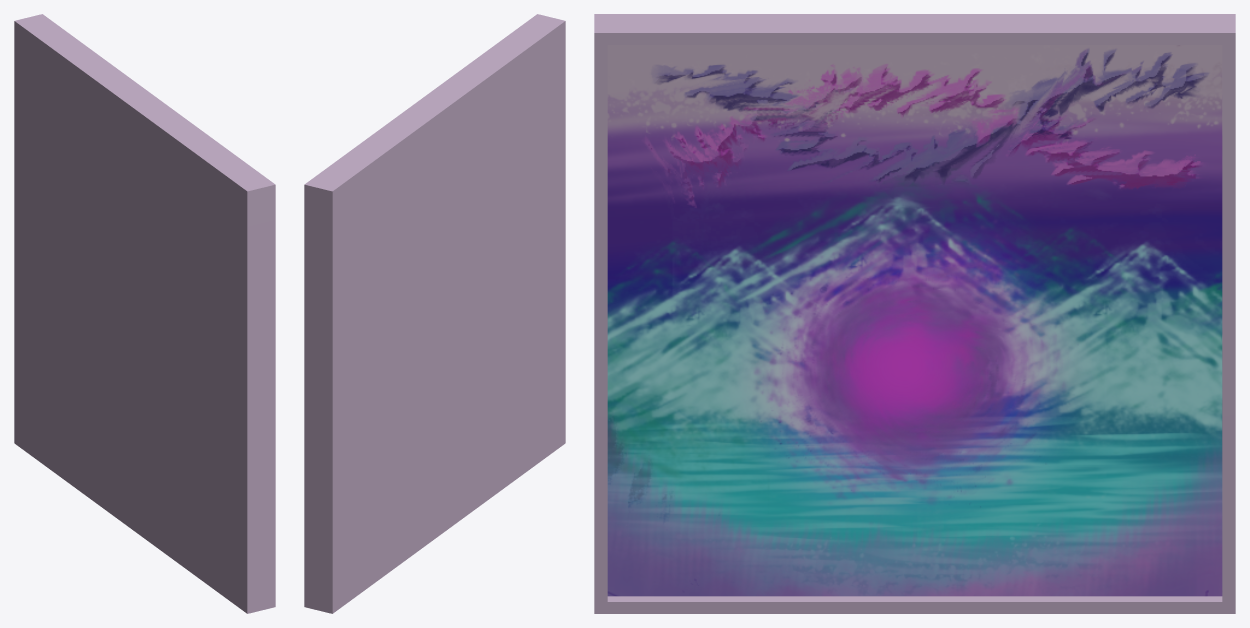
File: Mountains.fbx
3 views of the same model, side by side, from view 1: azimuth 30°, elevation 25°; view 2: azimuth 150°, elevation 25°; view 3: azimuth 270°, elevation 25° (orthographic). The views are drawn at different scales.
Parts seen in each view (by area): view 1: Cube; view 2: Cube; view 3: Cube.
Boxes of the visible parts, x1,y1,x2,y2 form: Cube: [14, 14, 275, 613]; Cube: [304, 14, 565, 613]; Cube: [594, 14, 1235, 613].
Size of the model in its own units: 68.2 by 977 by 977.
